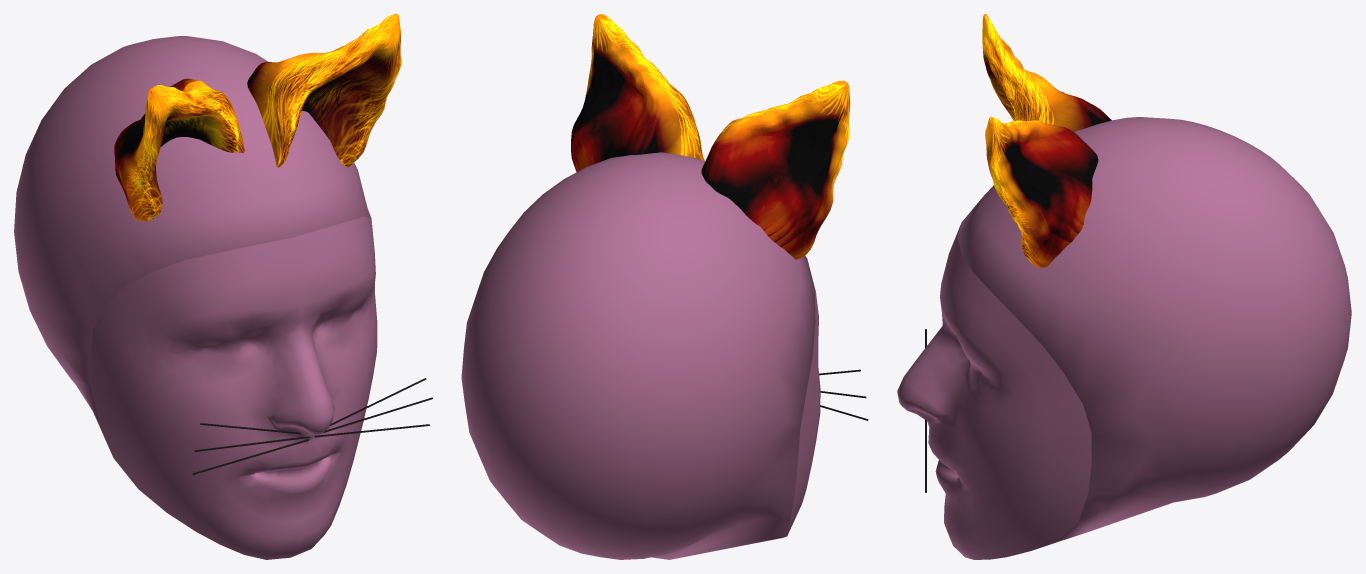
Rendered from Cat.glb.
3 renders of one model, left to right at view 1: azimuth 30°, elevation 25°; view 2: azimuth 150°, elevation 25°; view 3: azimuth 270°, elevation 25°, orthographic. The views are drawn at different scales.
Parts seen in each view (by area): view 1: OccluderFace, OccluderHead, CatEarR, CatEarL, CatWiskers; view 2: OccluderHead, CatEarL, CatEarR, OccluderFace; view 3: OccluderHead, OccluderFace, CatEarR, CatEarL.
Boxes of the visible parts, x1,y1,x2,y2 form: OccluderFace: (90, 216, 377, 559); OccluderHead: (14, 36, 371, 452); CatEarR: (247, 14, 401, 167); CatEarL: (114, 78, 244, 221); CatWiskers: (192, 378, 432, 474); OccluderHead: (461, 152, 815, 559); CatEarL: (701, 80, 850, 259); CatEarR: (571, 14, 704, 171); OccluderFace: (788, 281, 820, 533); OccluderHead: (957, 117, 1351, 549); OccluderFace: (897, 224, 1091, 559); CatEarR: (985, 116, 1098, 268); CatEarL: (982, 14, 1111, 131).
Bounding box in the file's own units: 16.79 × 27.64 × 23.41.
3 materials, 1 textured.
